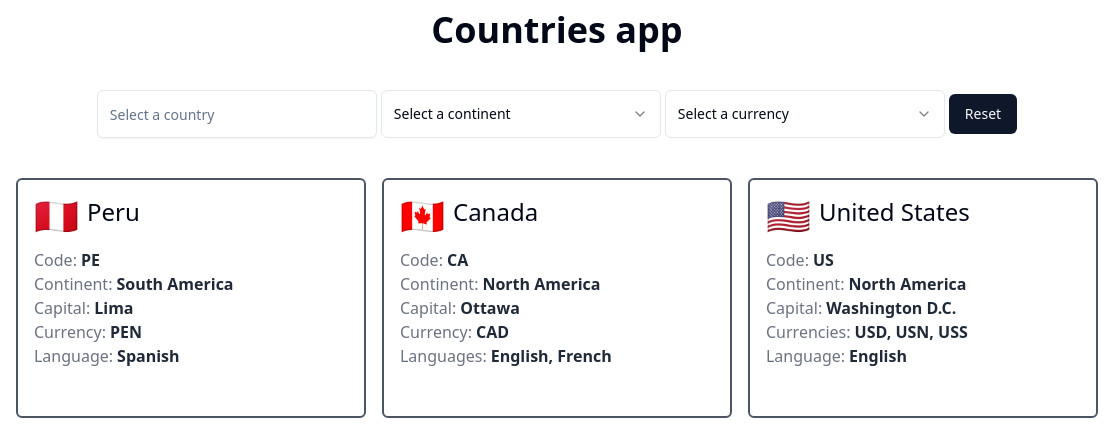
Test case: Home component › should render the currency select
Click the dropdown labelled "Select a currency" at [733, 114], box [665,90,945,138]
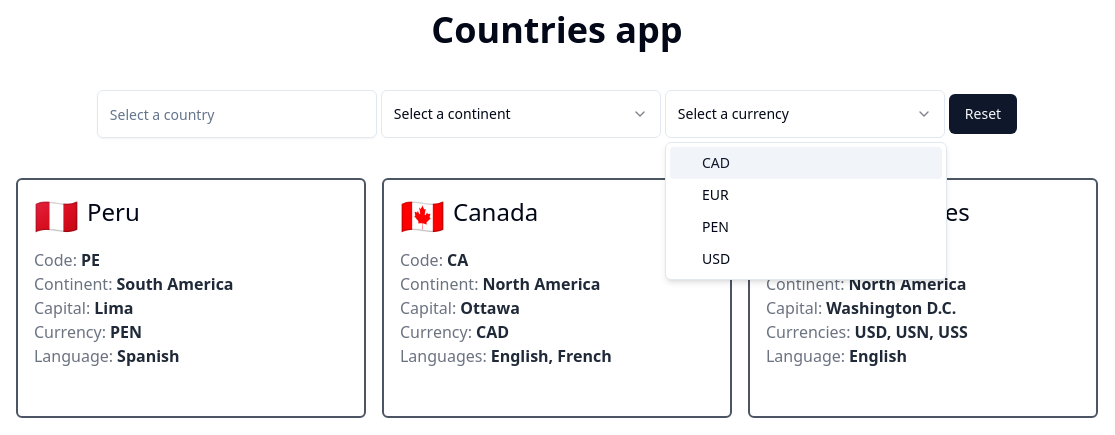
Check: the number of options is 4
Check: the option "CAD" is shown
Click the option "CAD" at [716, 162], box [670,147,942,179]
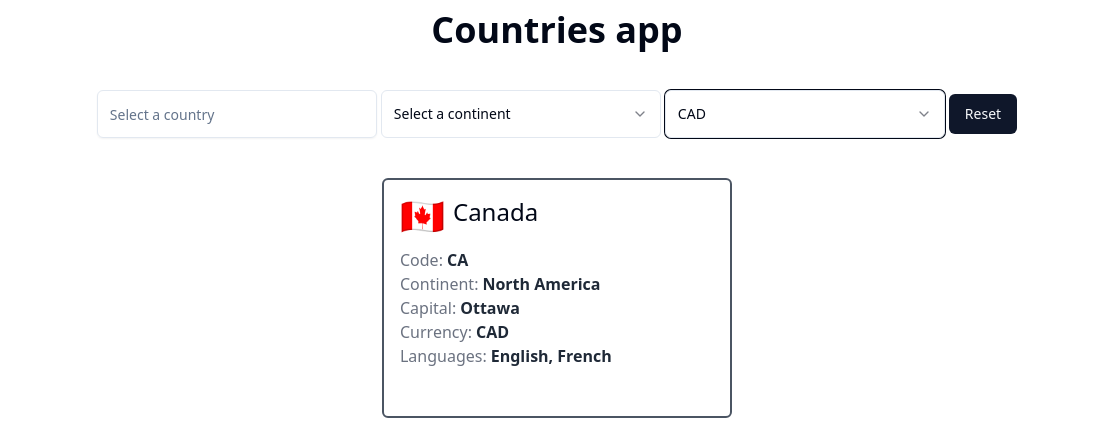
Check: the number of list items is 1, box [382,178,732,418]
